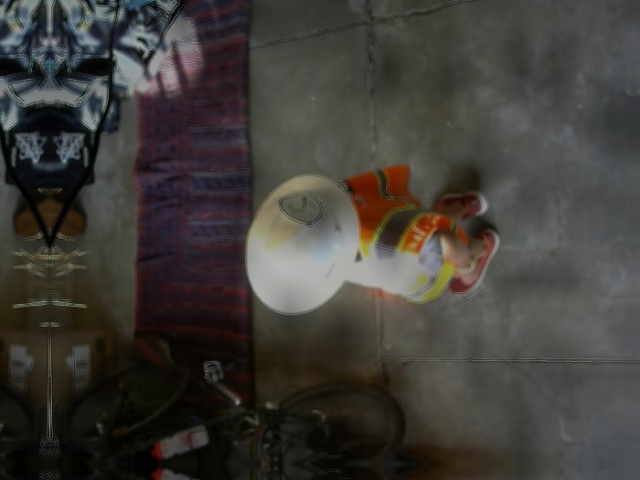two: (277, 192, 322, 224)
